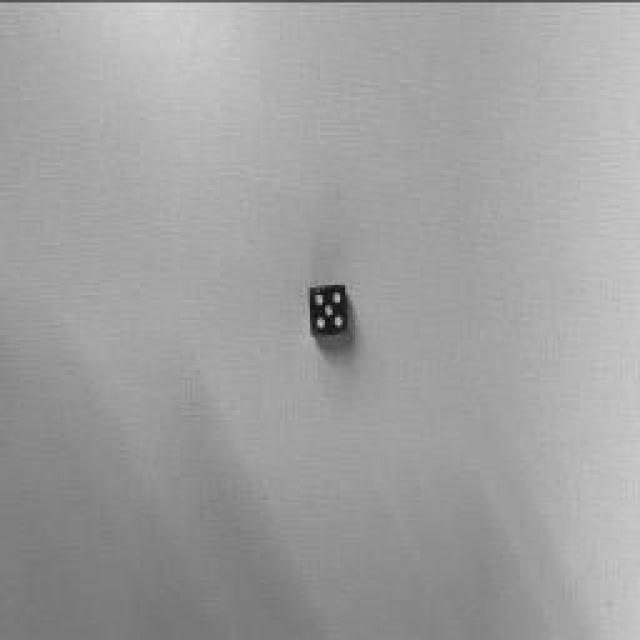dice_5: (308, 283, 348, 335)
